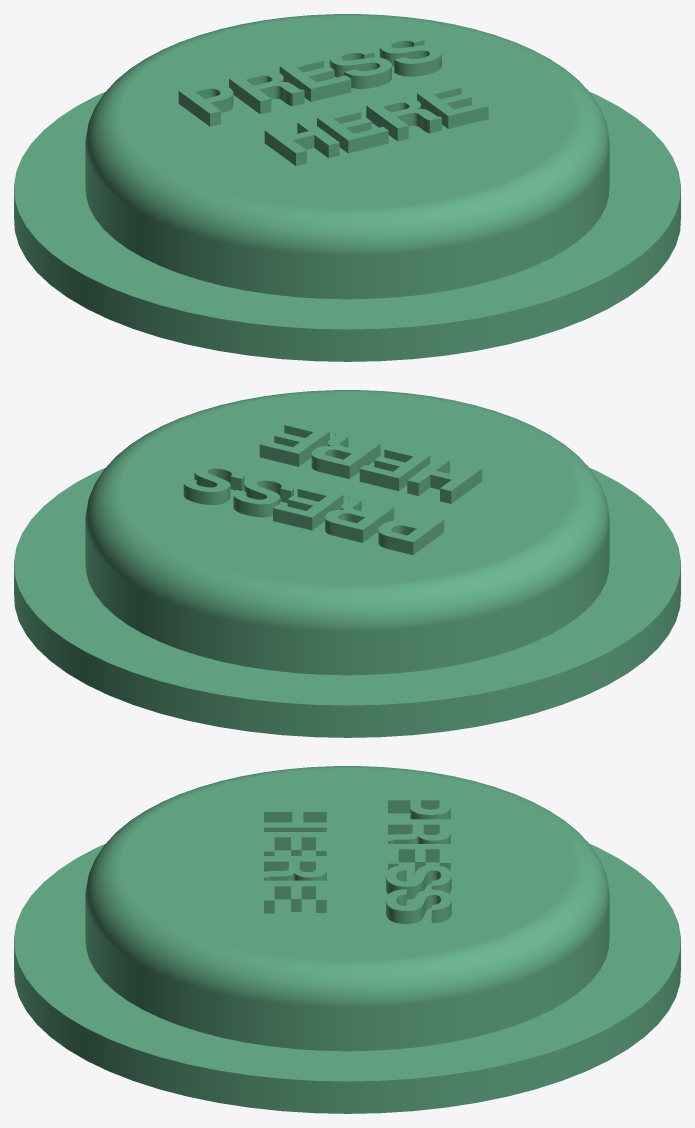
File: step_04.glb
The picture shows the model from 3 angles, top to bottom: view 1: azimuth 30°, elevation 25°; view 2: azimuth 150°, elevation 25°; view 3: azimuth 270°, elevation 25°; orthographic projection.
Visible parts, largest first — view 1: part__PRESS HERE button; view 2: part__PRESS HERE button; view 3: part__PRESS HERE button.
Part boxes in pixels (x1,y1,x2,y2): part__PRESS HERE button: (14, 14, 680, 361); part__PRESS HERE button: (14, 390, 680, 737); part__PRESS HERE button: (14, 766, 680, 1113).
Size of the model in its own units: 27.98 by 5.6 by 27.99.
